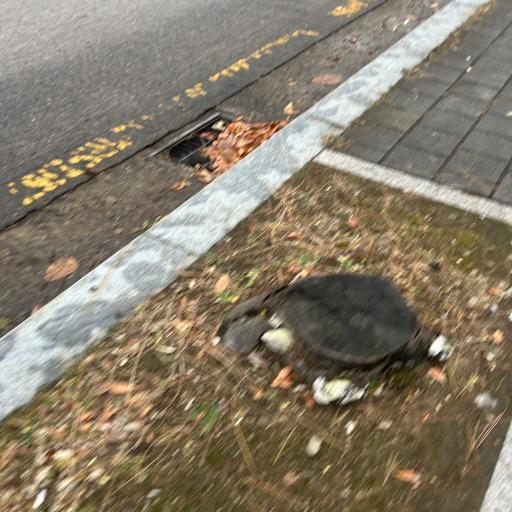debris: (194, 117, 280, 178)
drain: (148, 112, 280, 179)
